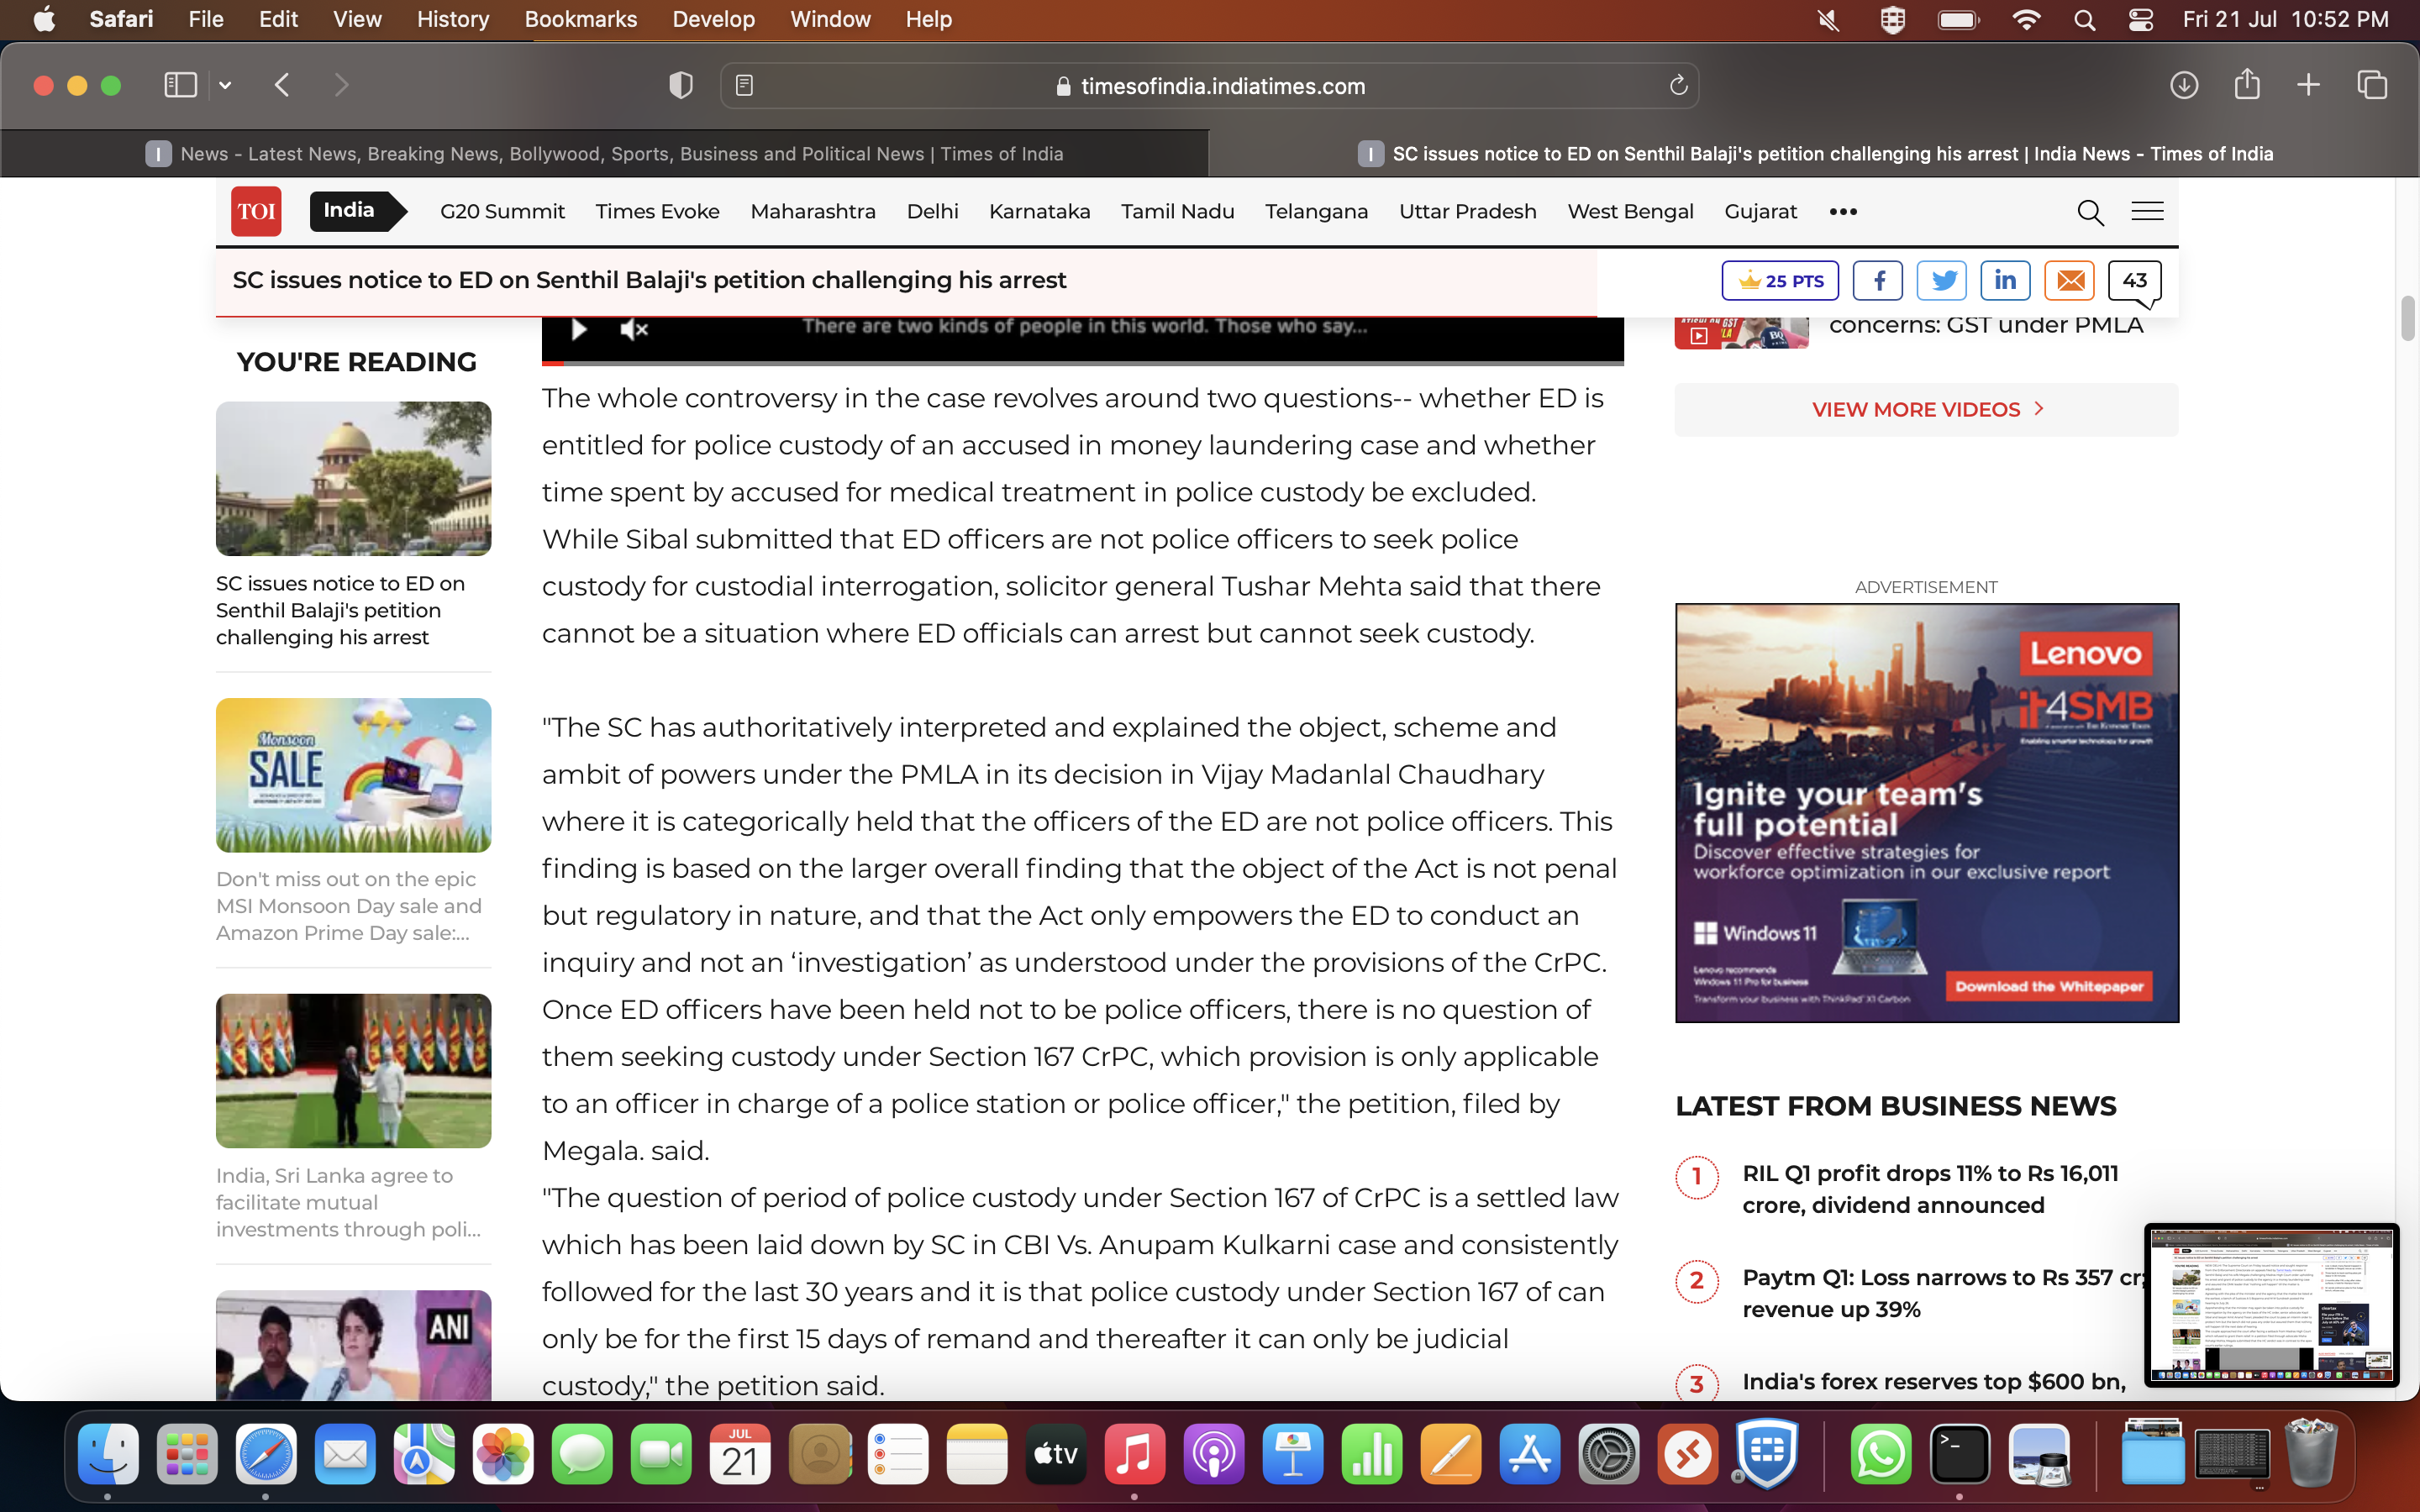Image: (1674, 587, 2164, 1026), (216, 408, 491, 552), (216, 1002, 491, 1144), (213, 700, 481, 843), (213, 1310, 477, 1413)
Paragraph: (535, 700, 1626, 1162), (545, 378, 1612, 651), (535, 1176, 1626, 1395), (226, 258, 1077, 312), (1728, 1254, 2124, 1341), (1739, 1148, 2124, 1232), (202, 861, 500, 967), (1667, 1066, 2129, 1134), (213, 563, 481, 662), (206, 1158, 477, 1251), (230, 329, 488, 394), (1746, 1371, 2129, 1399), (1803, 390, 2051, 429)
